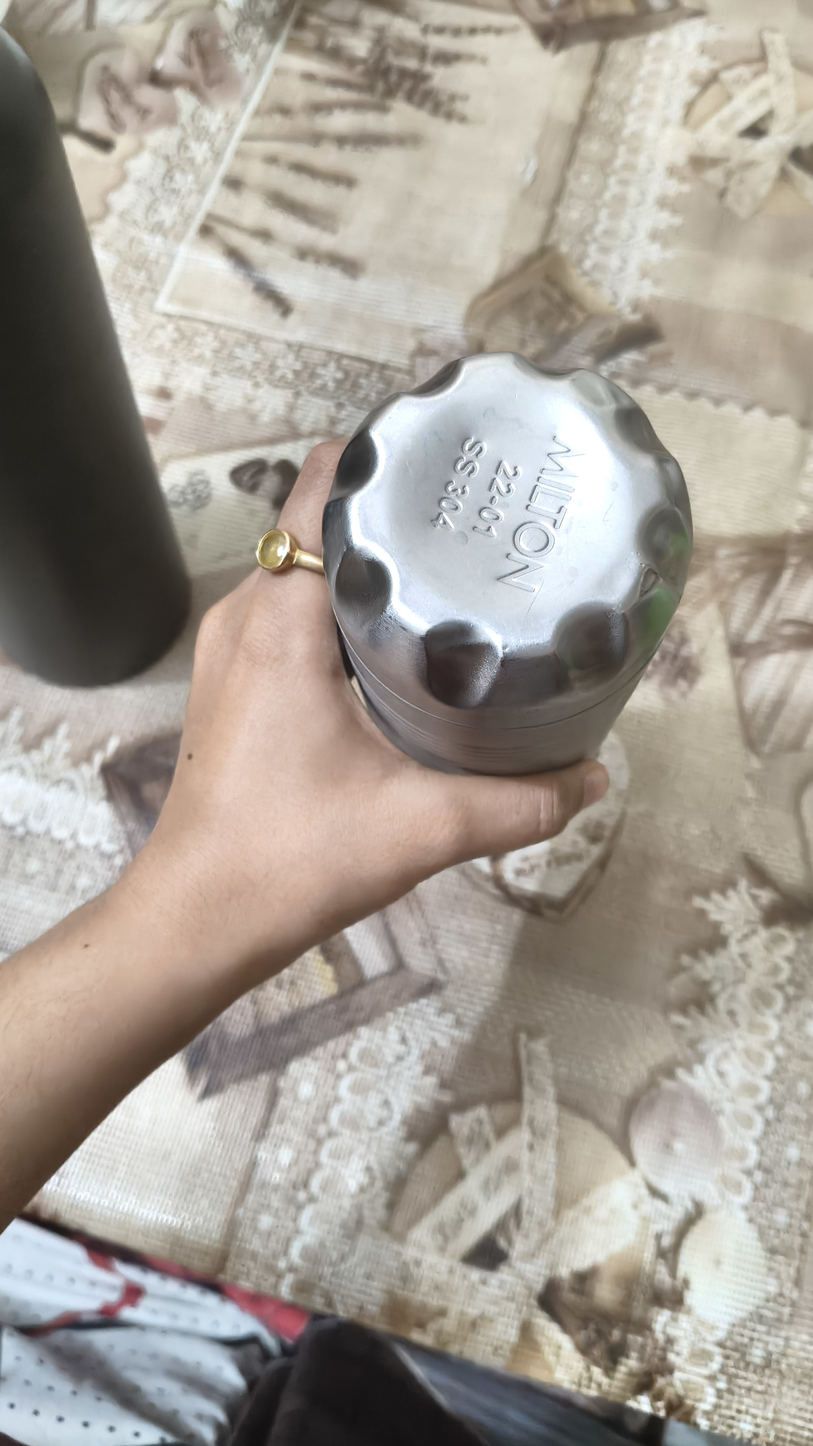bottles: (322, 354, 692, 775), (0, 34, 190, 687)
